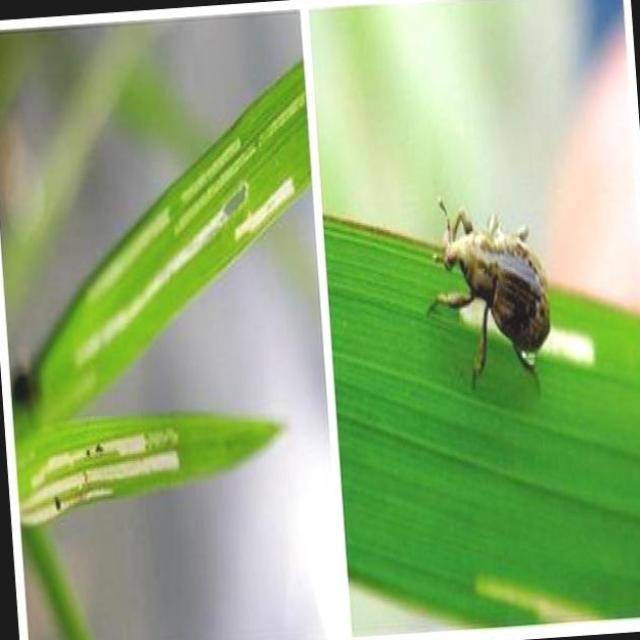ricebug: (429, 201, 550, 385)
